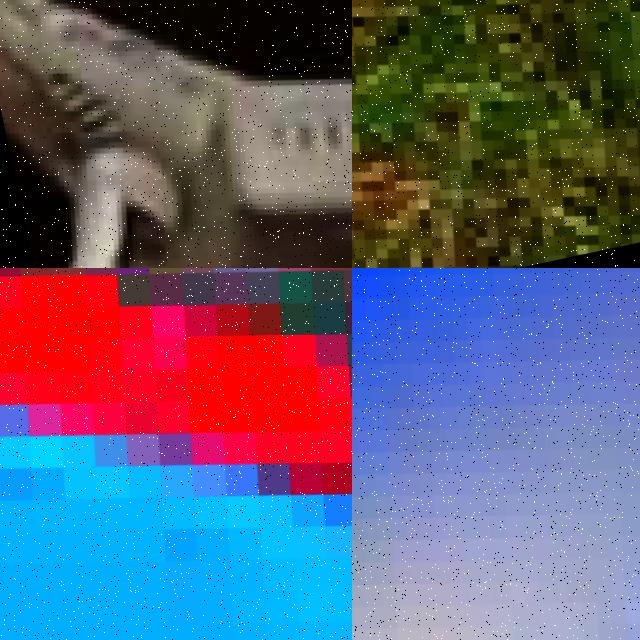0: (0, 0, 352, 268), (352, 0, 640, 268)
drone: (0, 268, 352, 640), (352, 268, 640, 640)
